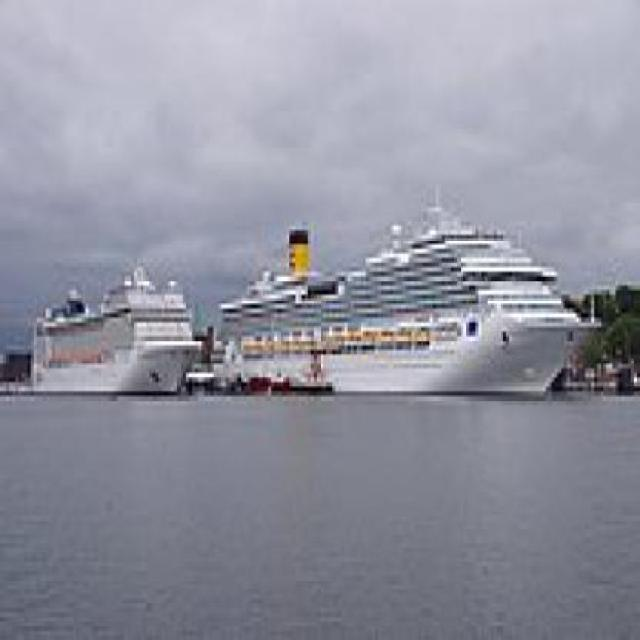cruise: (211, 180, 617, 420), (19, 254, 215, 406)
